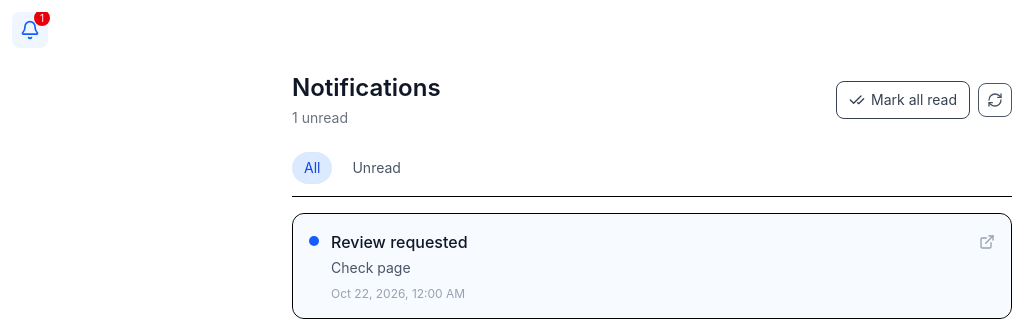
Test case: notification read synchronization › ignores older in-flight counts after a successful read refresh
Click the button named "Refresh notifications".
click(995, 100)  # box [978, 83, 1012, 117]
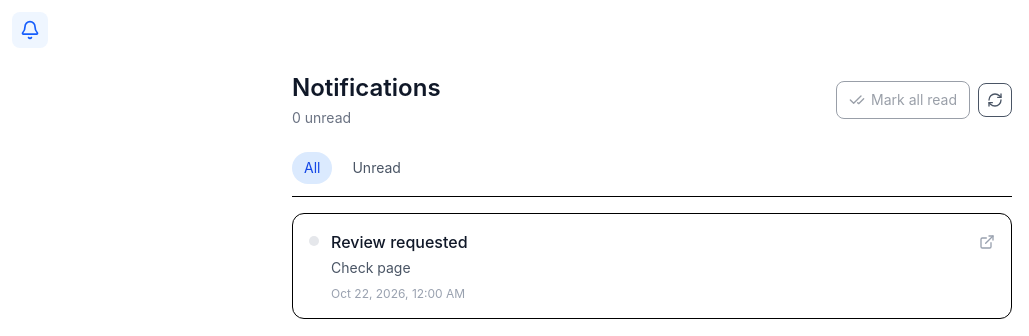
Expected: the text labelled "1 unread" is gone
Expected: the text "0 unread" is shown, [292, 109, 351, 126]
